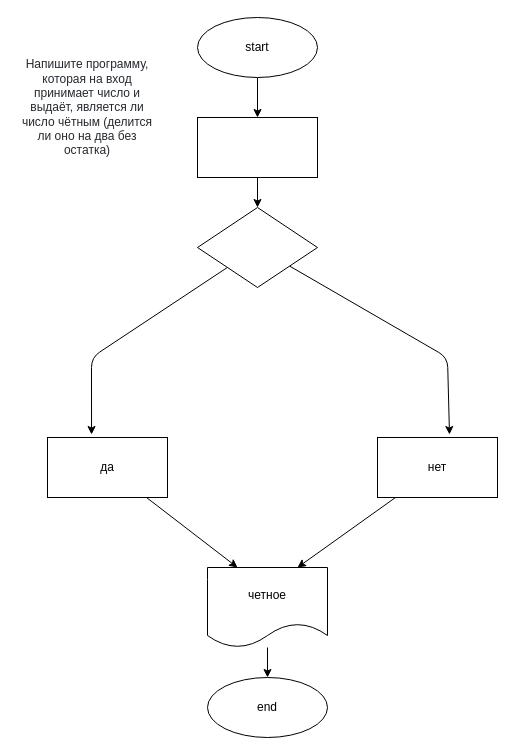
Image size: 515x755. Some labels were removed from this diagram. Here are the shapes that lost their labels. From the top down, the box of each, then its label:
(196, 116, 318, 178): Number
(196, 206, 318, 288): Number%2==0
